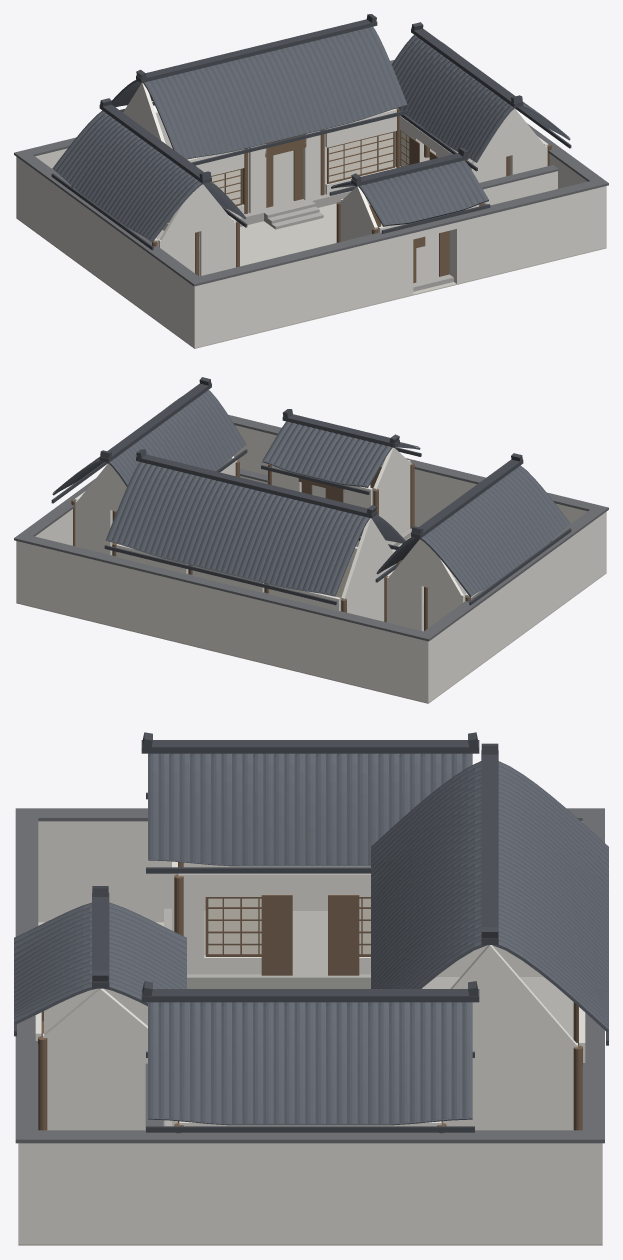
Rendered from architecture.glb.
3 renders of one model, top to bottom at view 1: azimuth 30°, elevation 25°; view 2: azimuth 150°, elevation 25°; view 3: azimuth 270°, elevation 25°, orthographic. The views are drawn at different scales.
Parts seen in each view (by area): view 1: MainHall_RoofTiles, WallPerimS1, WallPerimW, WestWing_RoofTiles, WallPerimS2, EastWing_RoofTiles, Gate_RoofTiles, Ground, MainHall_ridge_Cap, MainHall_win-1_2_paper, MainHall_plinth, WallPerimS1Cap (+34 smaller); view 2: WallPerimN, MainHall_RoofTiles, WallPerimW, WestWing_RoofTiles, EastWing_RoofTiles, Gate_RoofTiles, WallPerimNCap, WallPerimS1, MainHall_ridge_Cap, WestWing_gable1, MainHall_gable-1, WallPerimWCap (+26 smaller); view 3: WallPerimE, MainHall_RoofTiles, EastWing_RoofTiles, WestWing_RoofTiles, Gate_RoofTiles, WallPerimW, Gate_sidewall1, MainHall_sidewall1, WallPerimECap, MainHall_gable1, WestWing_plinth, EastWing_ridge_Cap (+29 smaller).
Part boxes in pixels (x1,y1,x2,y2): MainHall_RoofTiles: (112, 27, 407, 158); WallPerimS1: (189, 233, 413, 347); WallPerimW: (21, 160, 189, 343); WestWing_RoofTiles: (52, 110, 245, 240); WallPerimS2: (451, 186, 606, 283); EastWing_RoofTiles: (391, 35, 570, 161); Gate_RoofTiles: (331, 160, 488, 224); Ground: (16, 144, 606, 348); MainHall_ridge_Cap: (136, 19, 377, 82); MainHall_win-1_2_paper: (329, 132, 393, 181); MainHall_plinth: (162, 141, 351, 236); WallPerimS1Cap: (187, 228, 415, 286); WallPerimN: (16, 541, 433, 702); MainHall_RoofTiles: (106, 462, 405, 595); WallPerimW: (433, 515, 601, 698); WestWing_RoofTiles: (377, 465, 570, 595); EastWing_RoofTiles: (53, 390, 246, 492); Gate_RoofTiles: (262, 421, 419, 486); WallPerimNCap: (14, 534, 435, 641); WallPerimS1: (414, 469, 606, 575); MainHall_ridge_Cap: (136, 454, 377, 518); WestWing_gable1: (388, 539, 463, 595); MainHall_gable-1: (341, 518, 393, 597); WallPerimWCap: (423, 508, 603, 637); WallPerimE: (35, 1143, 585, 1243); MainHall_RoofTiles: (371, 761, 608, 1029); EastWing_RoofTiles: (148, 1002, 472, 1124); WestWing_RoofTiles: (148, 753, 472, 865); Gate_RoofTiles: (14, 902, 186, 1021); WallPerimW: (38, 821, 582, 922); Gate_sidewall1: (43, 1033, 147, 1130); MainHall_sidewall1: (449, 1043, 577, 1130); WallPerimECap: (33, 1130, 587, 1143); MainHall_gable1: (450, 945, 576, 1045); WestWing_plinth: (164, 908, 456, 988); EastWing_ridge_Cap: (141, 989, 479, 1002).
Size of the model in its own units: 18.3 by 6.43 by 13.75.
